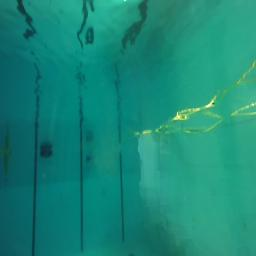Full: (38, 142, 54, 156), (86, 155, 93, 163)
